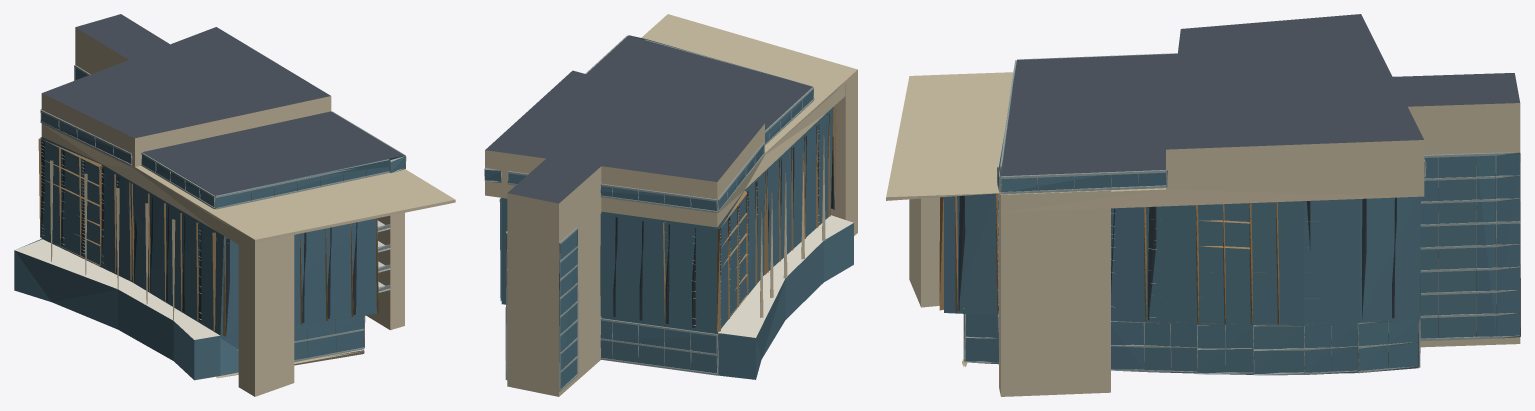
Rendered from oba-oosterdok.lod1.glb.
3 renders of one model, left to right at view 1: azimuth 30°, elevation 25°; view 2: azimuth 150°, elevation 25°; view 3: azimuth 270°, elevation 25°, orthographic. The views are drawn at different scales.
Visible parts, largest first — view 1: oba-oosterdok; view 2: oba-oosterdok; view 3: oba-oosterdok.
Part boxes in pixels (x1,y1,x2,y2): oba-oosterdok: [14, 14, 455, 396]; oba-oosterdok: [484, 14, 857, 396]; oba-oosterdok: [886, 14, 1520, 396].
Size of the model in its own units: 53.59 by 37 by 86.38.
